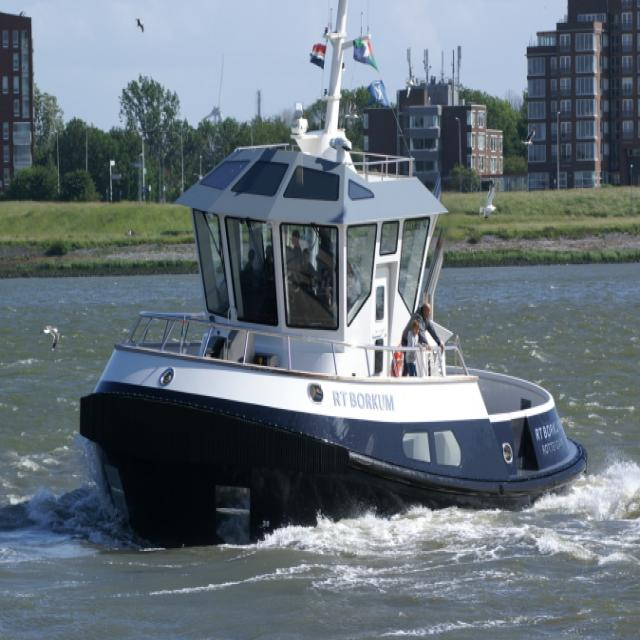tugboat: (73, 1, 592, 566)
